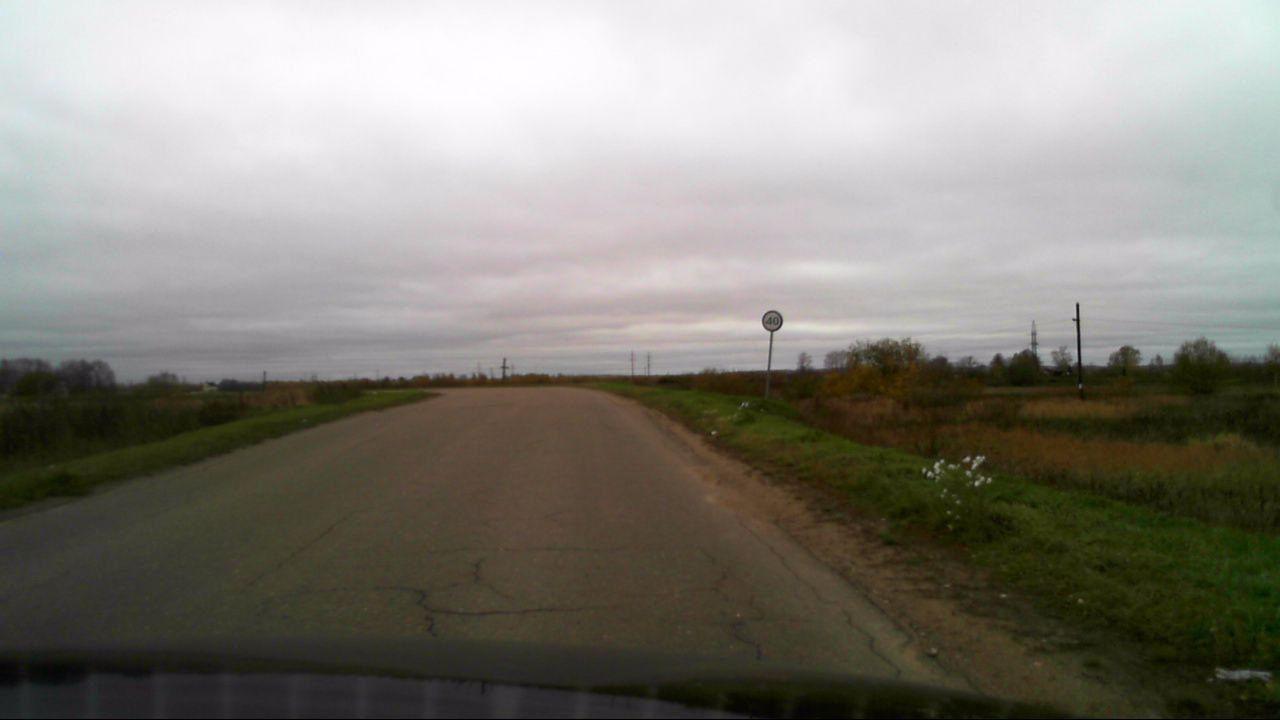road_sign: (761, 310, 783, 332)
